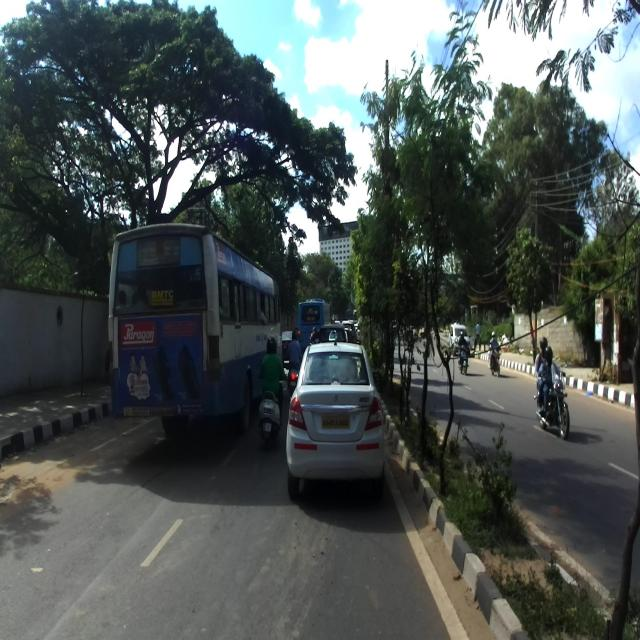Car_Mahindra: (448, 321, 471, 356)
Car_Maruti-Suzuki: (285, 327, 386, 498)
bus: (107, 222, 282, 434), (298, 296, 331, 355)
motorcycle_bajaj: (532, 358, 570, 440)
scooter: (257, 367, 288, 447), (286, 354, 304, 398), (457, 341, 469, 376)
